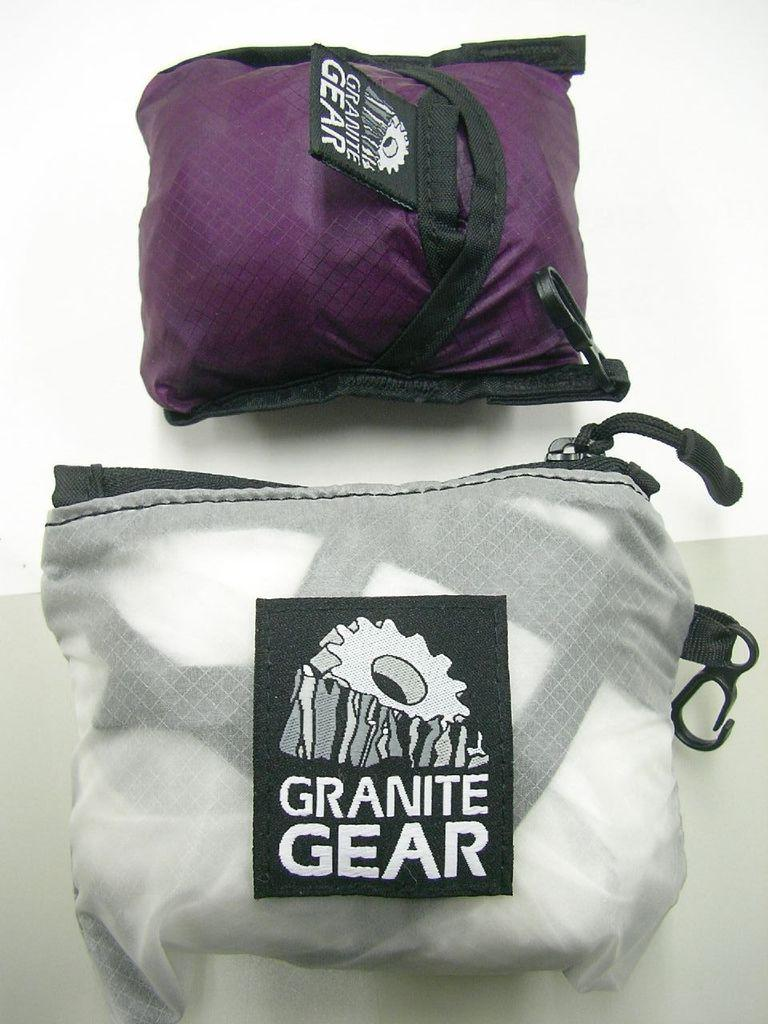Luggage-and-bags: (37, 411, 753, 1023), (110, 22, 686, 426)
